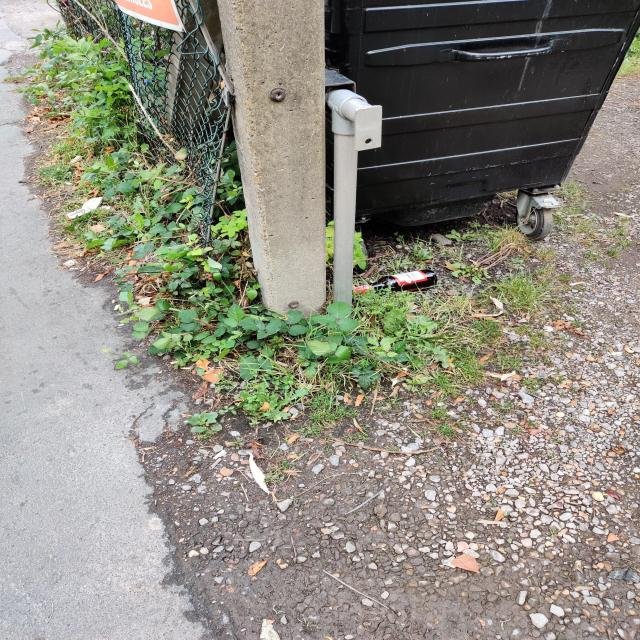litter: (331, 264, 451, 303)
